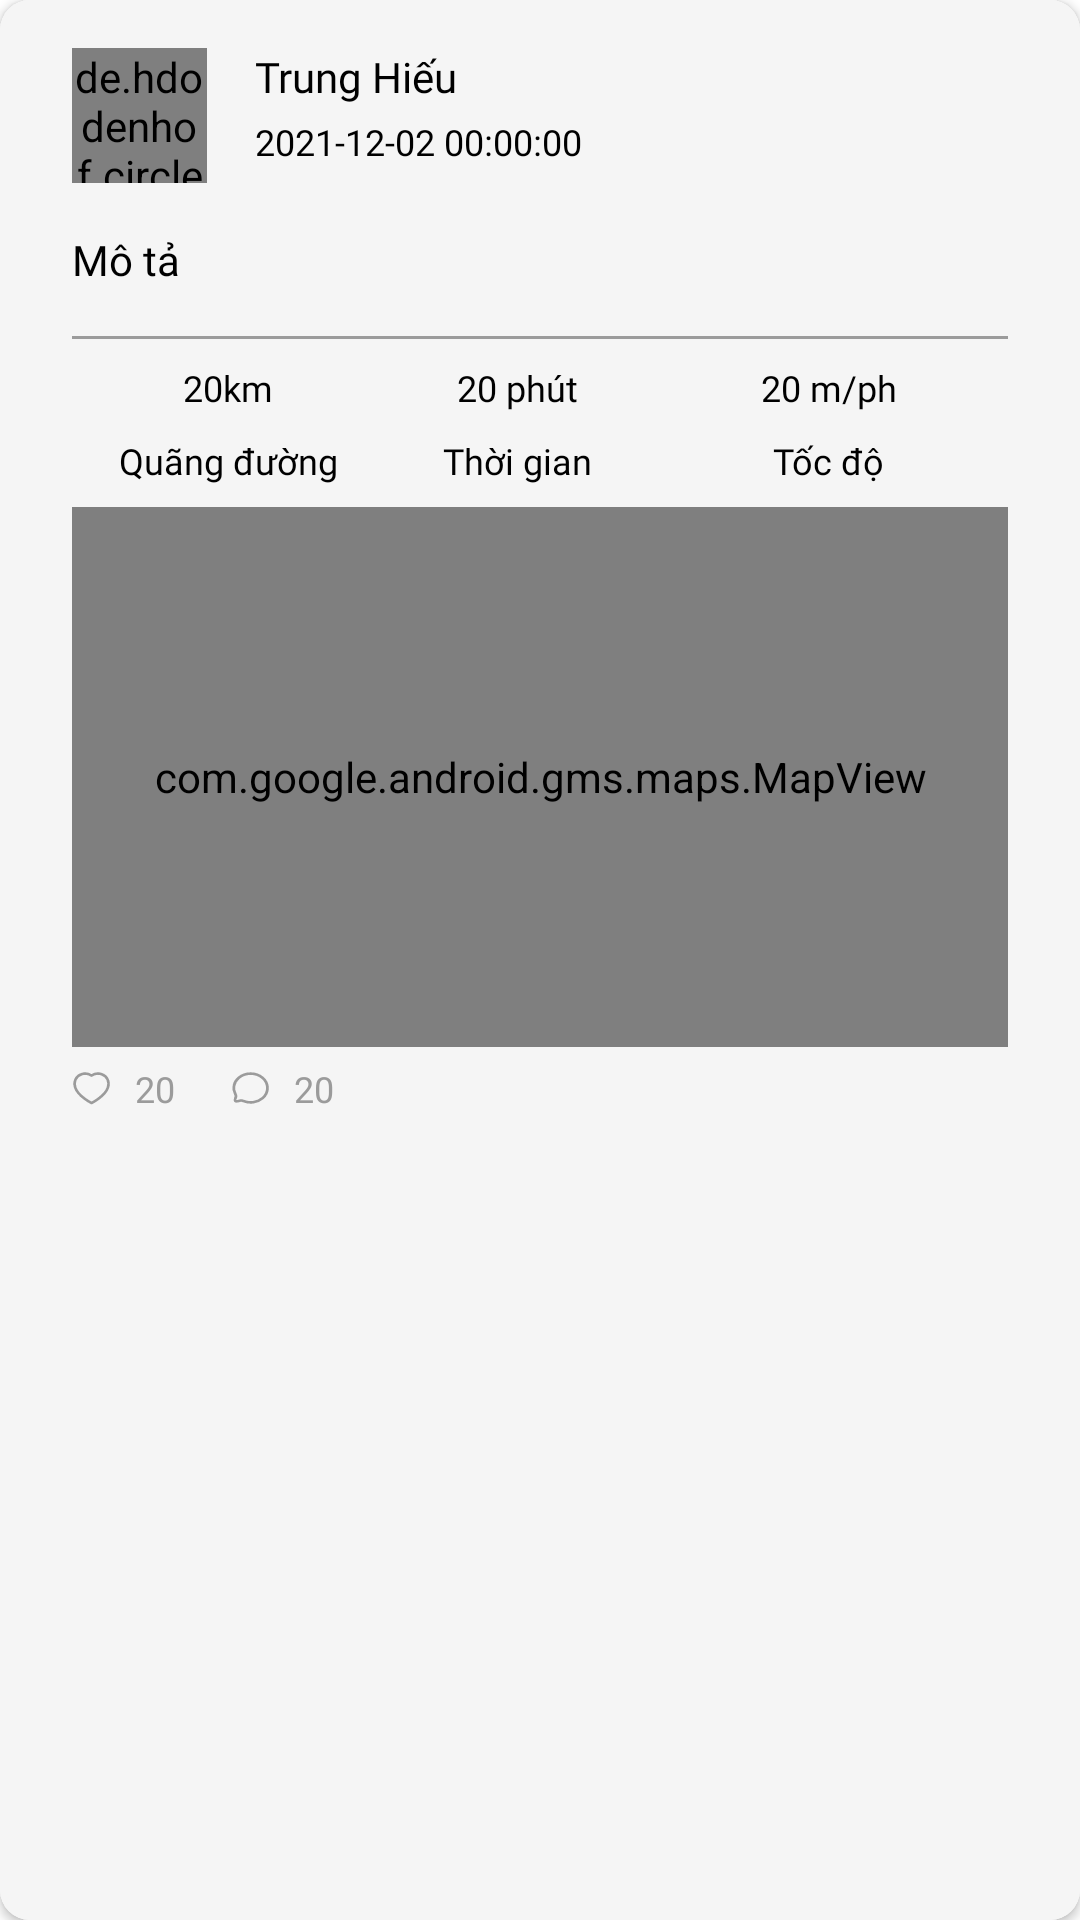

Where icons sit on this 1080 × 1920 app screen, as (left=x1, top=y1, right=x2, bottom=y2):
comment: (left=232, top=1072, right=269, bottom=1104)
like: (left=73, top=1072, right=110, bottom=1104)
